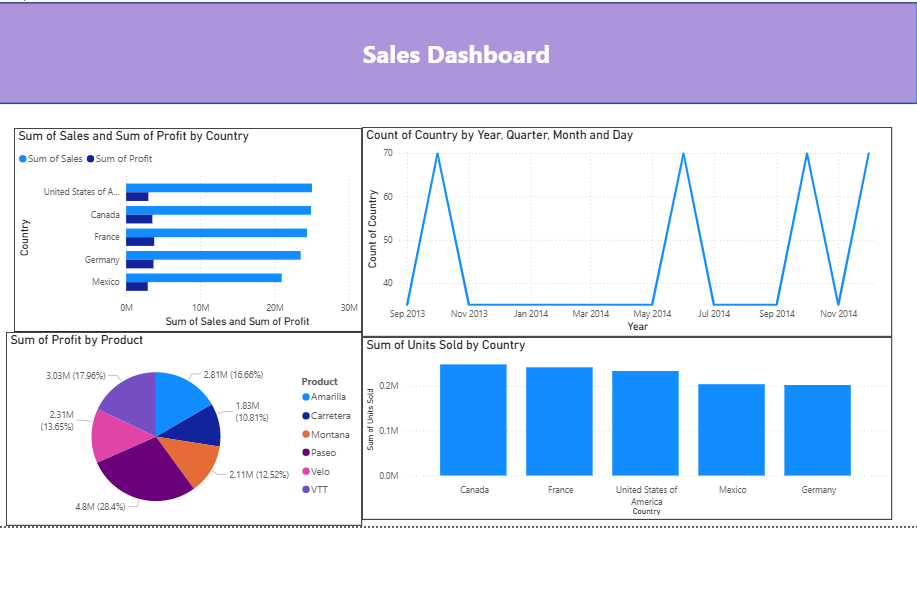

The page's visual inventory and layout, read from the dashboard file:
{"tool":"powerbi","page":{"name":"Sales Dashboard","canvas":[1280,720],"ordinal":0},"visuals":[{"type":"clusteredBarChart","fields":{"Category":["financials.Country"],"Y":["Sum(financials.Sales)","Sum(financials.Profit)"]},"box":[26.1,173,477.9,280.2],"z":0},{"type":"pieChart","fields":{"Y":["Sum(financials.Profit)"],"Series":["financials.Product"]},"box":[15.1,453.2,488.9,266.4],"z":1},{"type":"lineChart","fields":{"Y":["CountNonNull(financials.Country)"],"Category":["financials.Date.Variation.Date Hierarchy.Year","financials.Date.Variation.Date Hierarchy.Quarter","financials.Date.Variation.Date Hierarchy.Month","financials.Date.Variation.Date Hierarchy.Day"]},"box":[504,171.7,727.9,288.4],"z":2},{"type":"clusteredColumnChart","fields":{"Category":["financials.Country"],"Y":["Sum(financials.Units Sold)"]},"box":[504,460.1,727.9,251.3],"z":3},{"type":"shape","box":[0,0,1267.6,140.1],"z":4}]}

Visuals, with their boxes in screenshot pixels (x1, y1, x2, y2):
clusteredBarChart - financials.Country x Sum(financials.Sales): [7,127,357,332]
pieChart - Sum(financials.Profit) x financials.Product: [0,332,357,527]
lineChart - CountNonNull(financials.Country) x financials.Date.Variation.Date Hierarchy.Year: [357,126,890,337]
clusteredColumnChart - financials.Country x Sum(financials.Units Sold): [357,337,890,521]
shape: [0,0,916,103]
